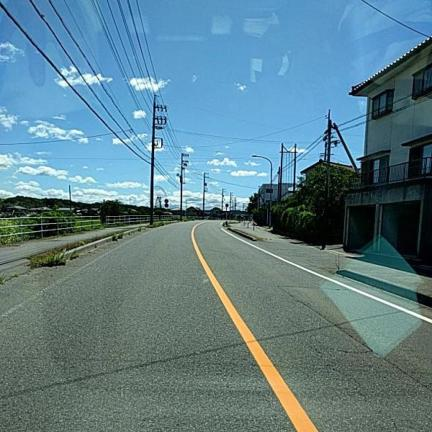Road: (0, 222, 431, 431)
